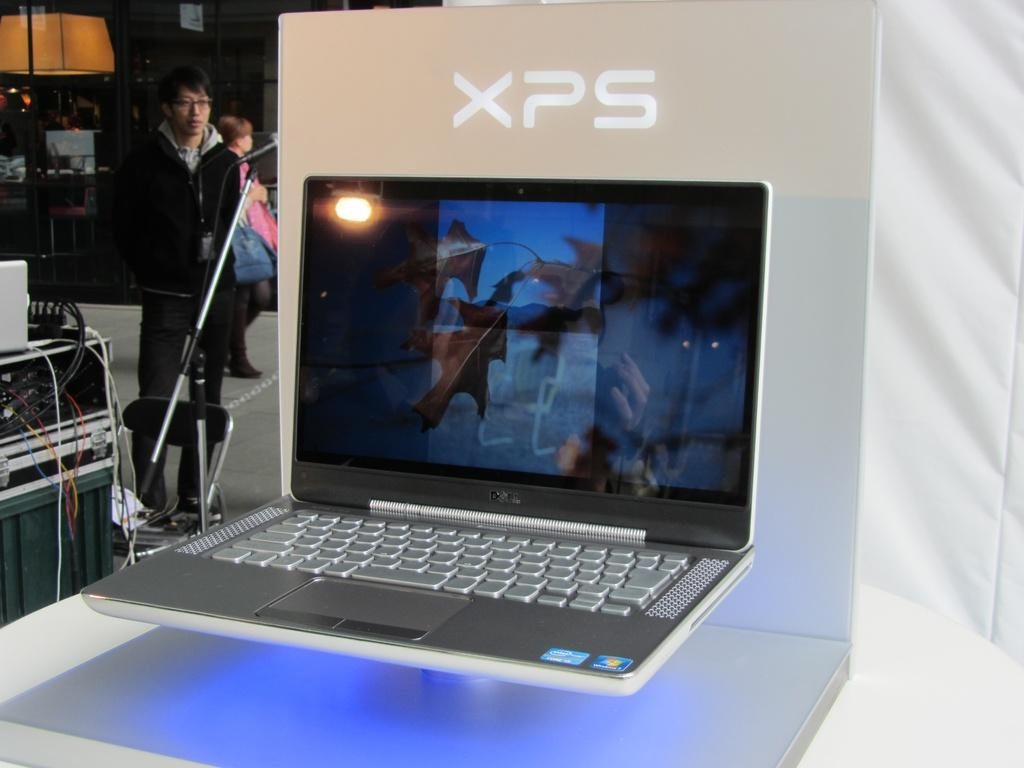Computer-keyboard: (210, 509, 691, 618)
